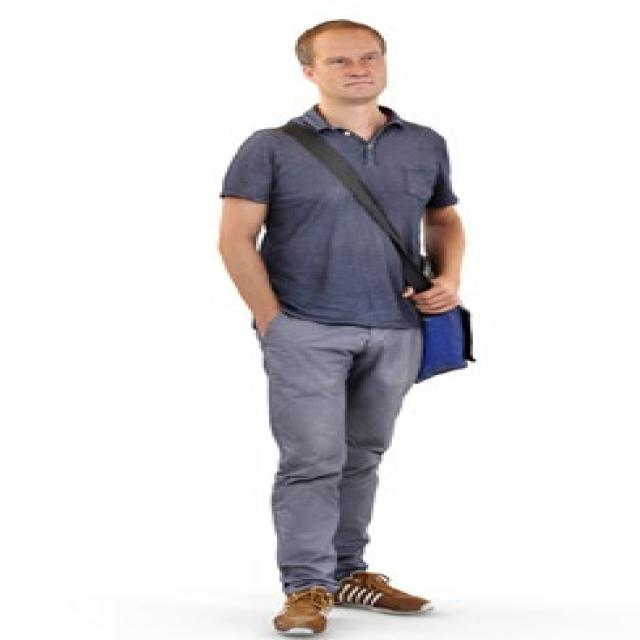standing: (212, 17, 465, 640)
